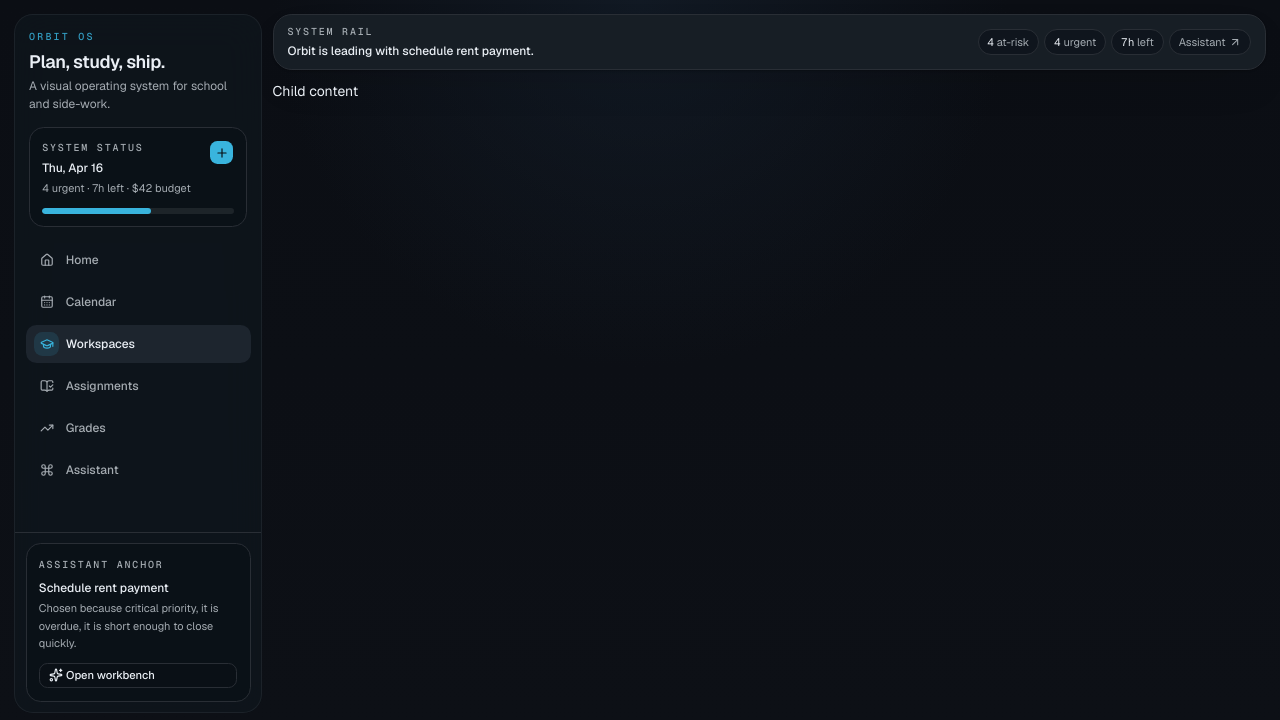
Test case: AppShell › opens the quick command modal from the shell
Click the button named "quick add command".
click(222, 153)  # box [209,140,234,165]
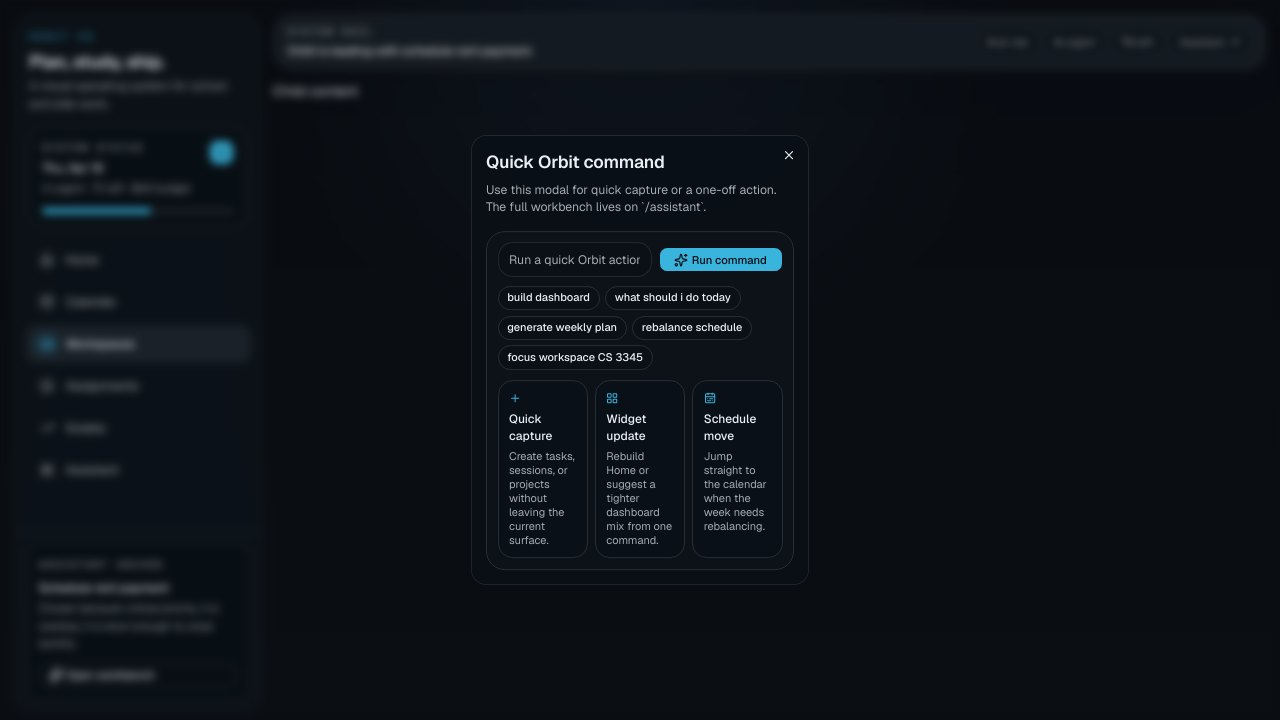
Now the heading "Quick Orbit command" is shown, box [486,150,665,173]
